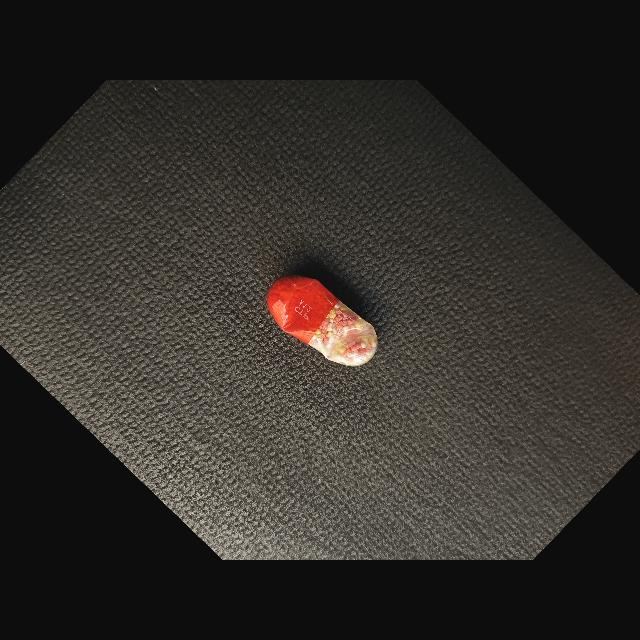Defective Capsule: (267, 276, 378, 367)
